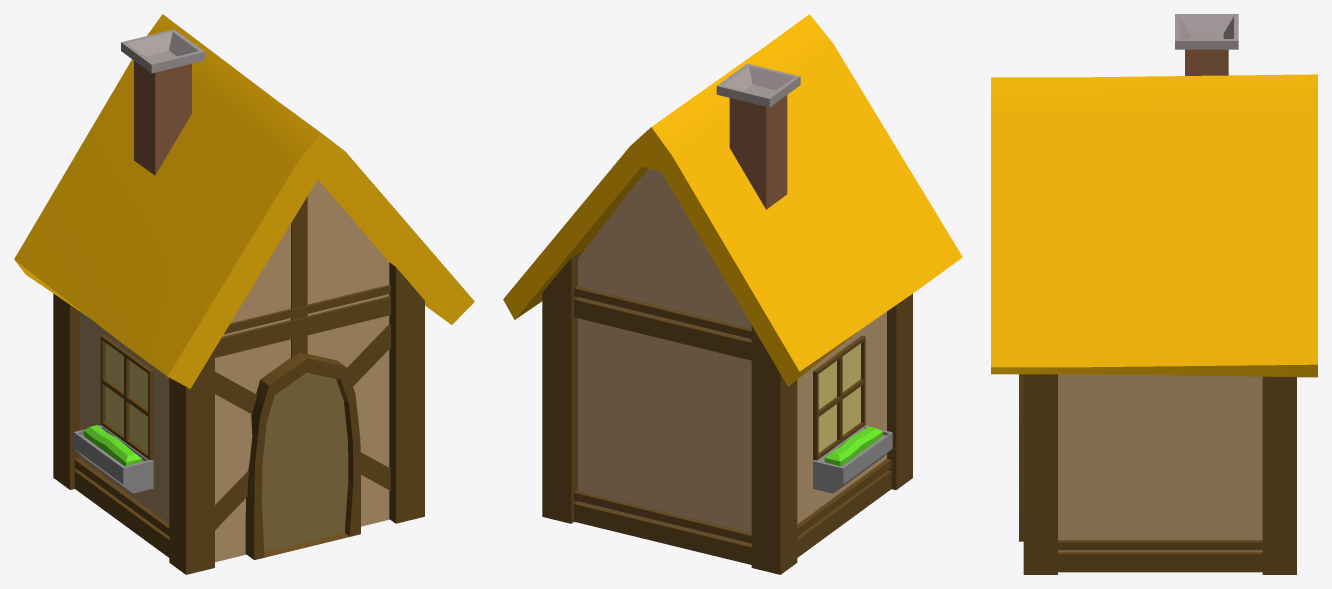
File: Modular_Houses_SMol_House.fbx
3 views of the same model, side by side, from view 1: azimuth 30°, elevation 25°; view 2: azimuth 150°, elevation 25°; view 3: azimuth 270°, elevation 25° (orthographic). The views are drawn at different scales.
Parts seen in each view (by area): view 1: SMol_House; view 2: SMol_House; view 3: SMol_House.
Part boxes in pixels (bbox=[...]): SMol_House: bbox=[14, 14, 474, 574]; SMol_House: bbox=[503, 14, 962, 574]; SMol_House: bbox=[991, 14, 1317, 574].
Bounding box in the file's own units: 4.18 × 5.81 × 3.73.
1 material, 1 textured.
